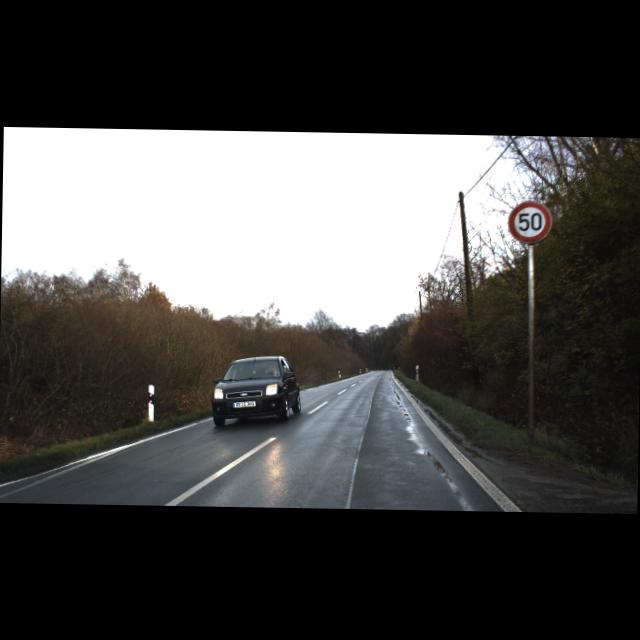prohibitory: (506, 200, 551, 243)
